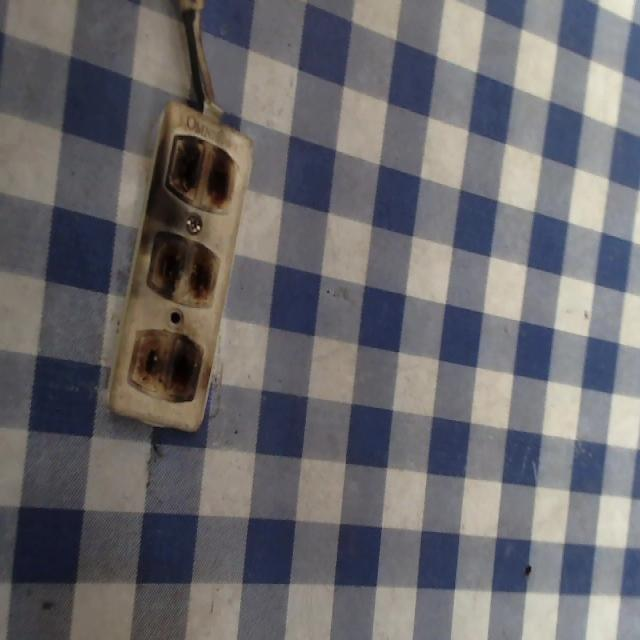-: (162, 125, 243, 218), (128, 326, 212, 411), (146, 236, 218, 301)
